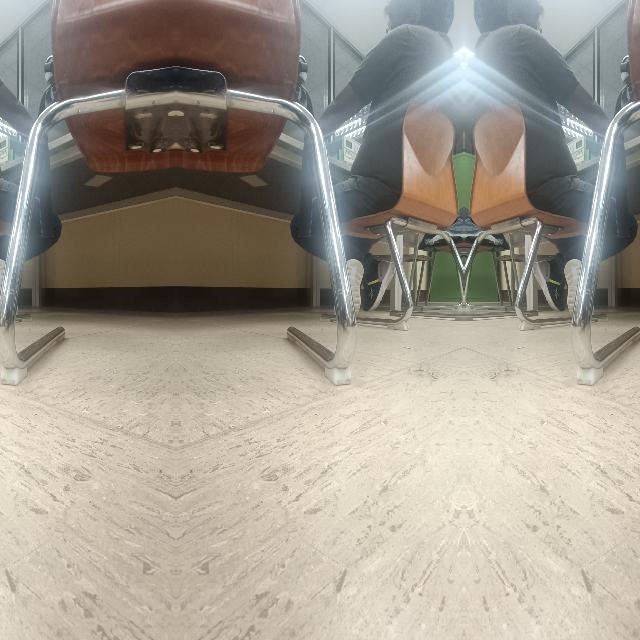obstacle: (284, 225, 362, 392), (565, 224, 640, 391), (0, 224, 65, 391)
